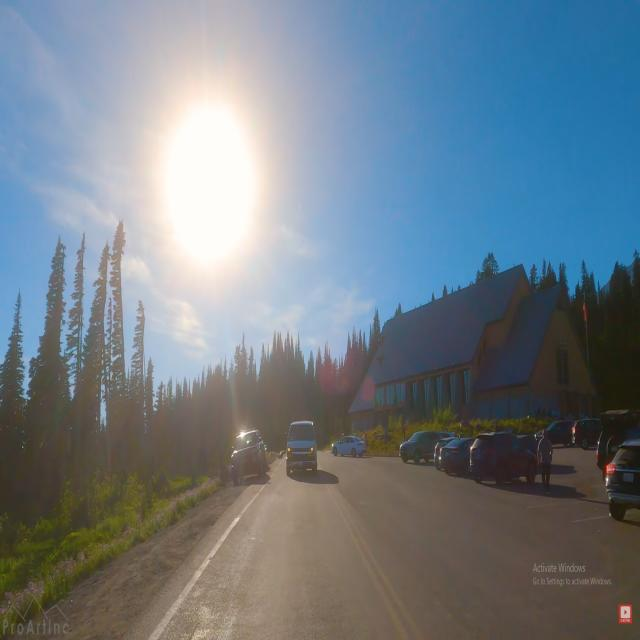sun: (130, 65, 284, 314)
